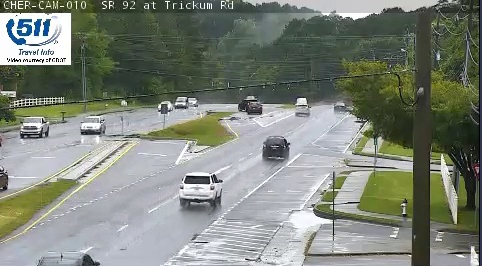car: (179, 172, 222, 202), (262, 136, 289, 157), (294, 103, 309, 116)
